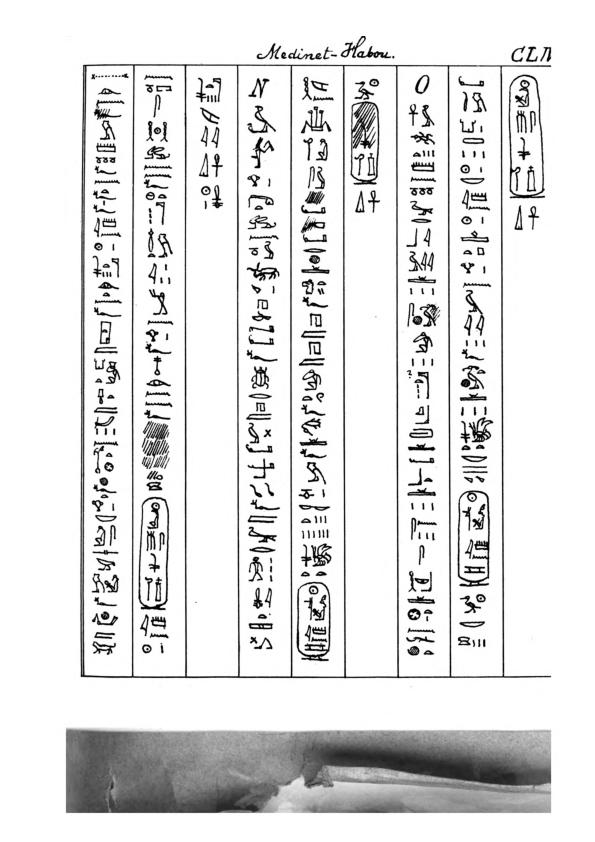circle: (506, 73, 549, 201), (137, 495, 170, 612), (454, 489, 492, 588), (295, 581, 333, 664), (349, 100, 381, 187)
